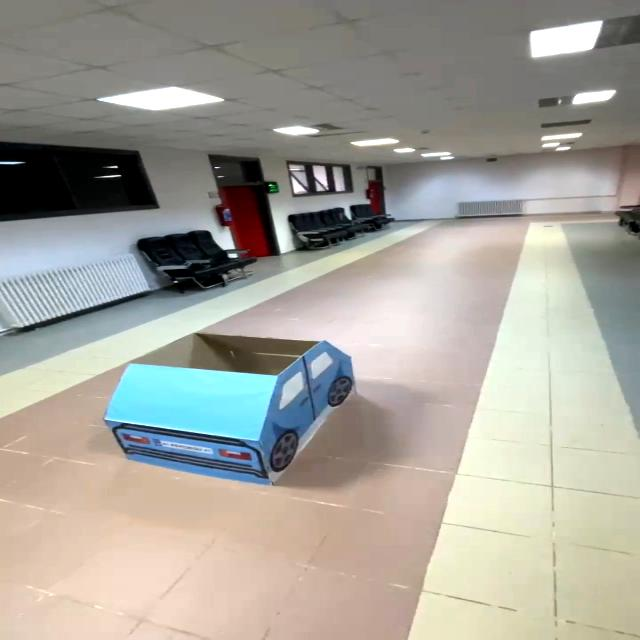blue_car: (78, 315, 390, 487)
